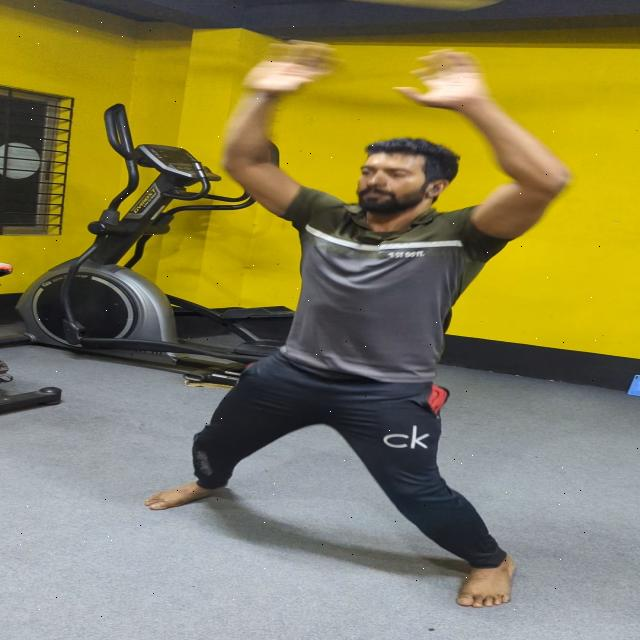Normal_JumpingJacks: (110, 58, 640, 539)
